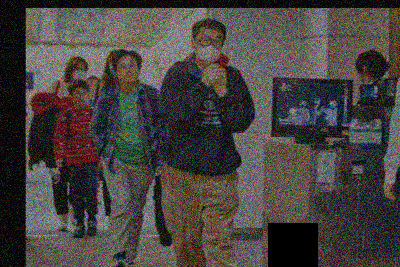with_mask: (195, 33, 224, 64), (70, 64, 87, 83)
without_mask: (114, 60, 141, 83), (72, 88, 89, 106)
